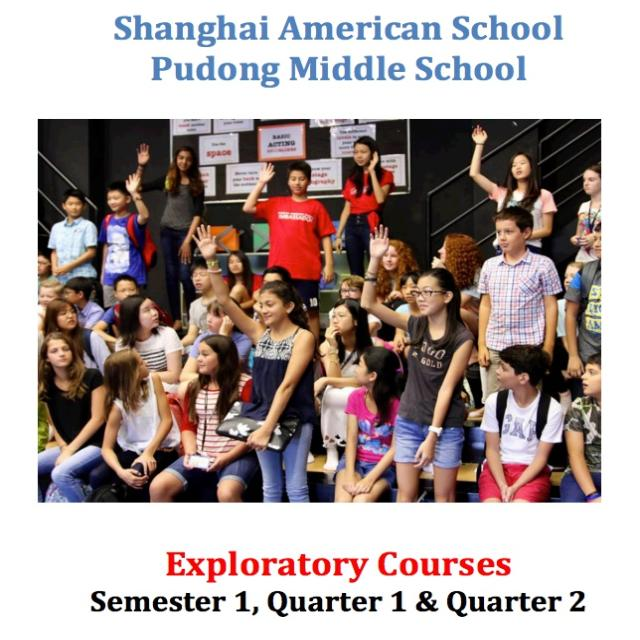body: (360, 218, 476, 548), (188, 220, 320, 504), (17, 330, 120, 550), (236, 157, 338, 358), (147, 334, 256, 503), (478, 339, 562, 549), (475, 206, 563, 398), (558, 348, 639, 548), (330, 342, 406, 545), (88, 348, 183, 503), (135, 141, 208, 339), (467, 124, 558, 256), (311, 302, 376, 473), (333, 134, 396, 279), (97, 171, 150, 310), (562, 220, 602, 400), (112, 293, 185, 387), (89, 272, 175, 347), (429, 232, 483, 343), (41, 296, 104, 378), (46, 187, 98, 285), (321, 273, 379, 357), (193, 295, 247, 366), (179, 254, 219, 346), (250, 264, 310, 324), (568, 163, 602, 263), (390, 270, 426, 364), (375, 238, 422, 304), (556, 260, 586, 354), (221, 249, 265, 312), (61, 275, 105, 331), (36, 246, 60, 285), (36, 279, 64, 311)
